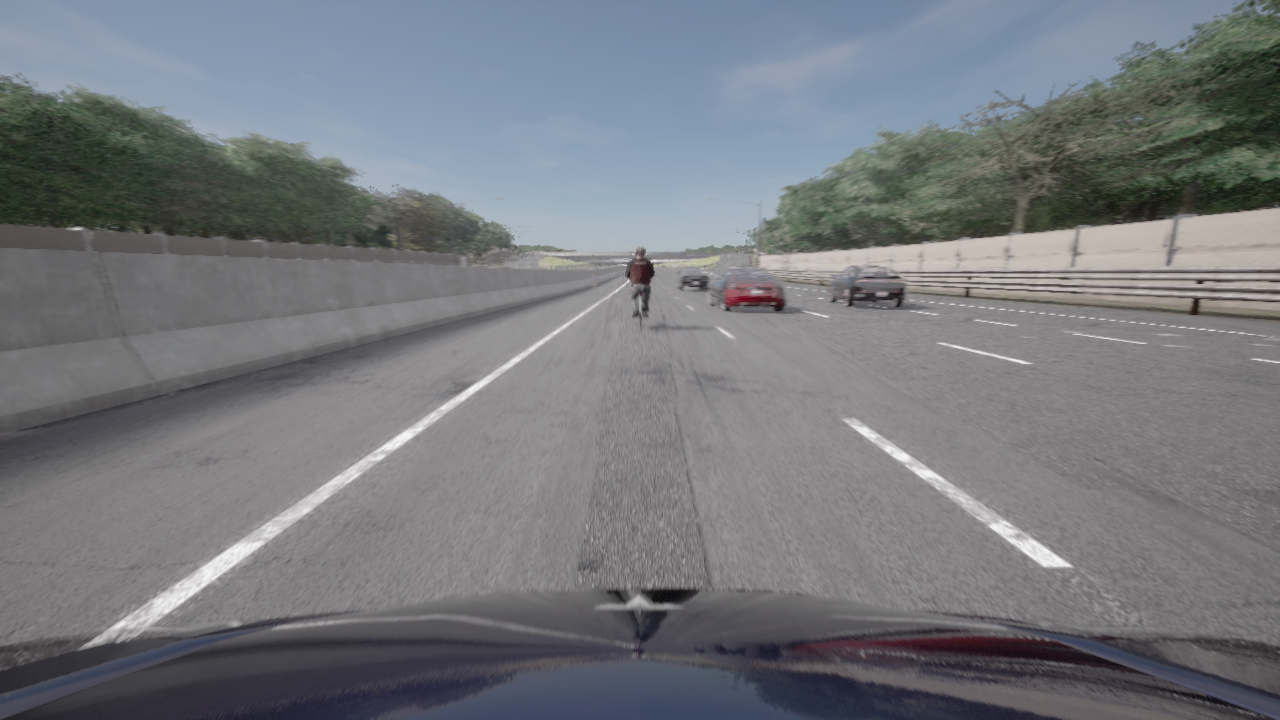cyclist: (0, 588, 1279, 719), (708, 268, 785, 311), (829, 265, 905, 307), (677, 267, 708, 290), (638, 293, 647, 331)
pedestrian: (593, 272, 597, 295)
